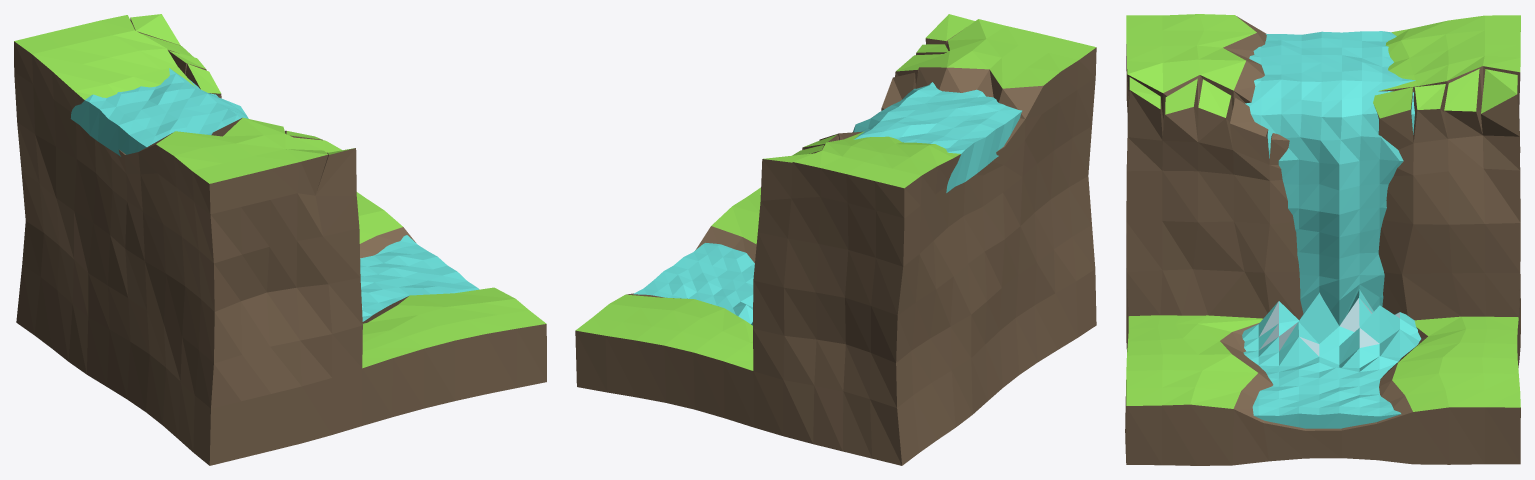
The model's file is waterfall.glb.
3 views of the same model, side by side, from view 1: azimuth 30°, elevation 25°; view 2: azimuth 150°, elevation 25°; view 3: azimuth 270°, elevation 25° (orthographic). The views are drawn at different scales.
Parts seen in each view (by area): view 1: Cliff and Ground, Water River; view 2: Cliff and Ground, Water River; view 3: Cliff and Ground, Water River.
Part boxes in pixels (box(x1,y1,x2,y2)): Cliff and Ground: box(14, 14, 546, 465); Water River: box(70, 68, 479, 321); Cliff and Ground: box(575, 14, 1096, 465); Water River: box(633, 82, 1022, 325); Cliff and Ground: box(1125, 14, 1520, 465); Water River: box(1242, 31, 1421, 428).
Bounding box in the file's own units: 7.58 × 6.05 × 7.55.
